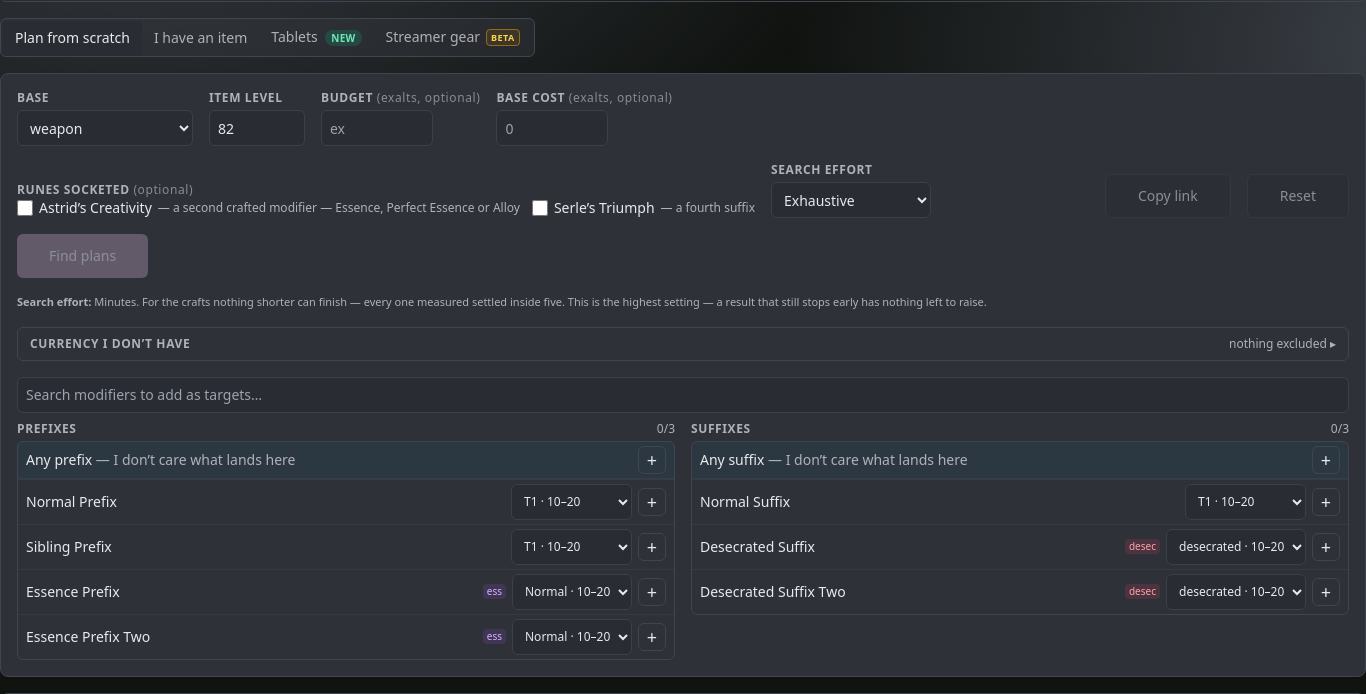
it: EngineLab — the true cost of a craft from scratch › stops telling you to raise the effort once you are at the top of it
Expected: the field with placeholder "Search modifiers to add as targets…" is shown, top-left (17, 377), bottom-right (1349, 413)
Click the button "+" in the row of "Normal Prefix" at (652, 502), box top-left (638, 488), bottom-right (666, 516)
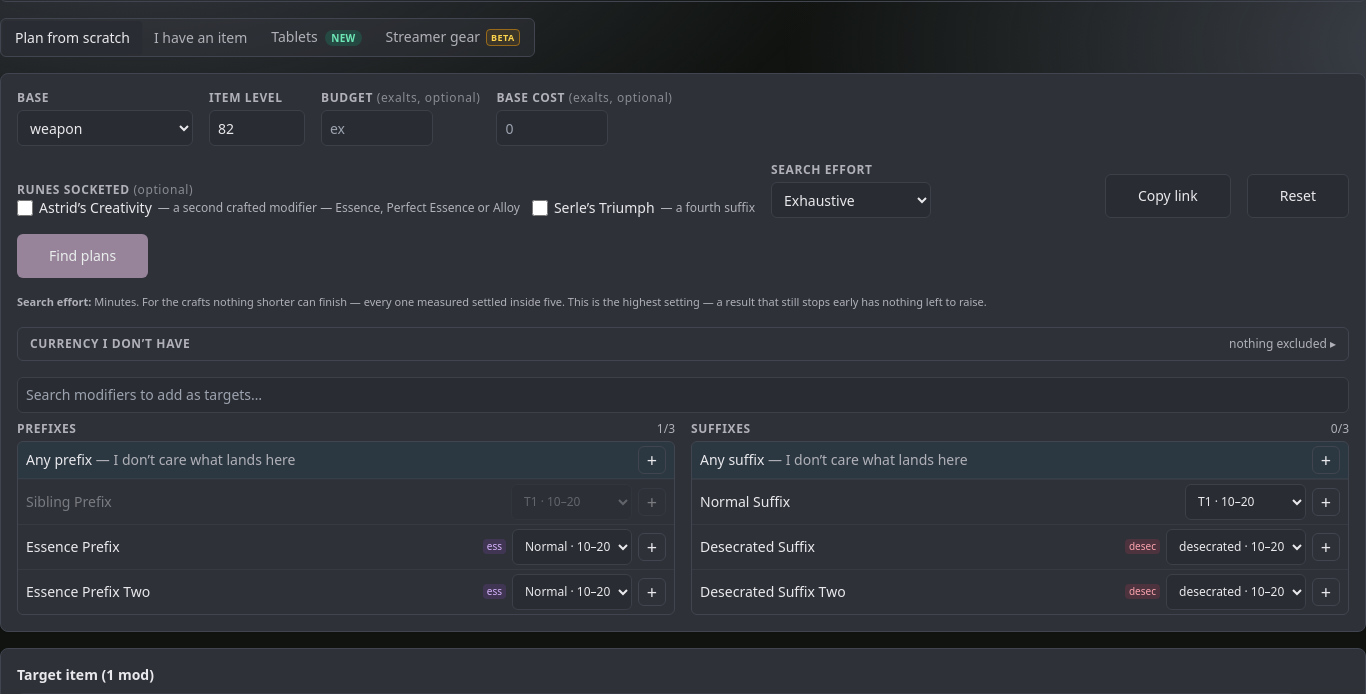
Click the button "Find plans" at (83, 256), box top-left (17, 234), bottom-right (148, 278)
(page scrolled)
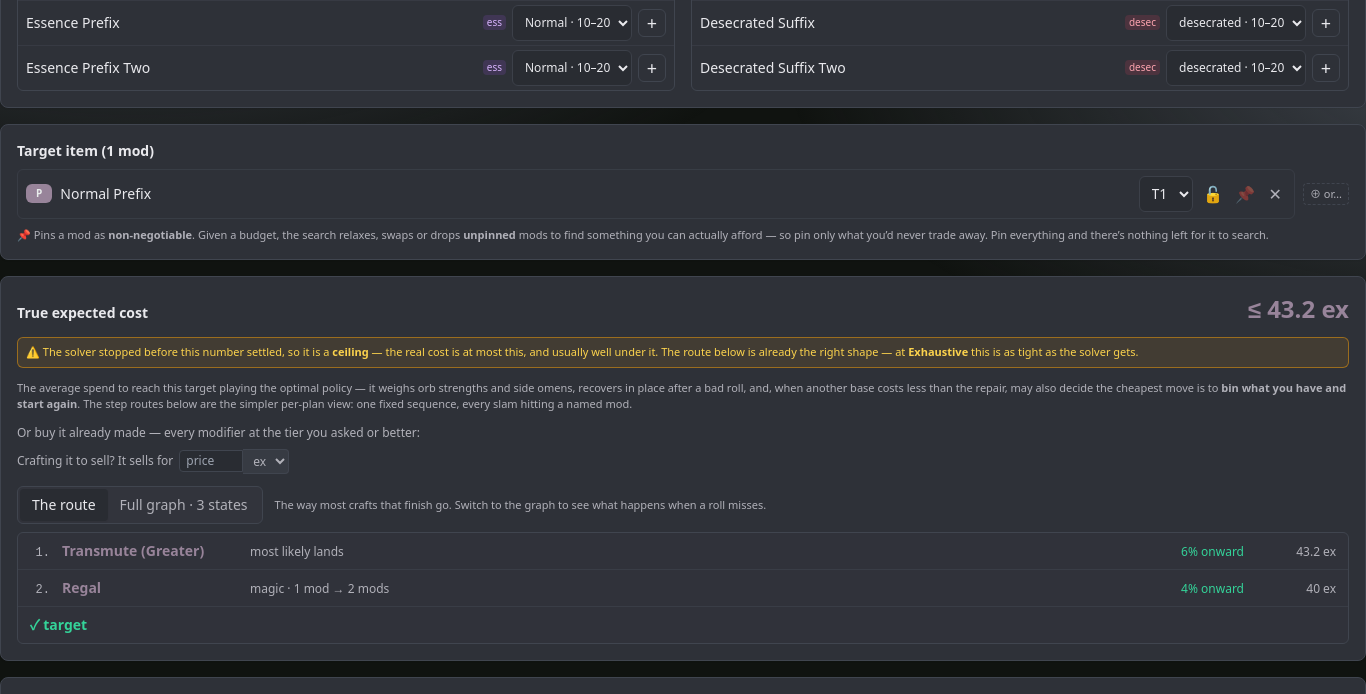
Expected: the text "ceiling" shows "as tight as the solver gets", top-left (968, 344), bottom-right (1136, 359)
Expected: the text "ceiling" shows "Exhaustive", top-left (908, 344), bottom-right (968, 359)
